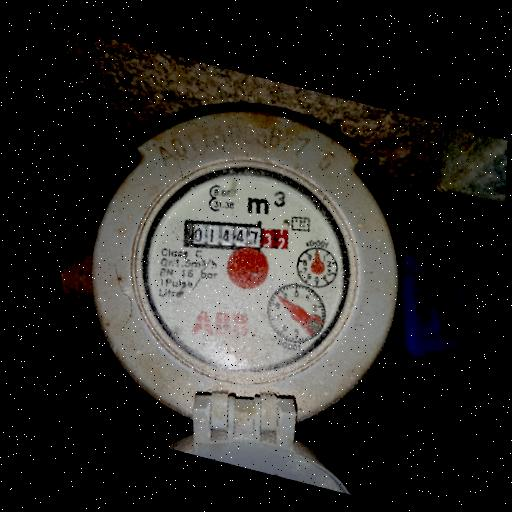0: (189, 222, 209, 247)
1: (202, 222, 223, 247)
2: (273, 227, 291, 252)
3: (258, 226, 279, 252)
4: (216, 223, 237, 250), (230, 224, 251, 250)
7: (244, 225, 264, 249)
border_water_meter_number: (178, 201, 296, 273)
